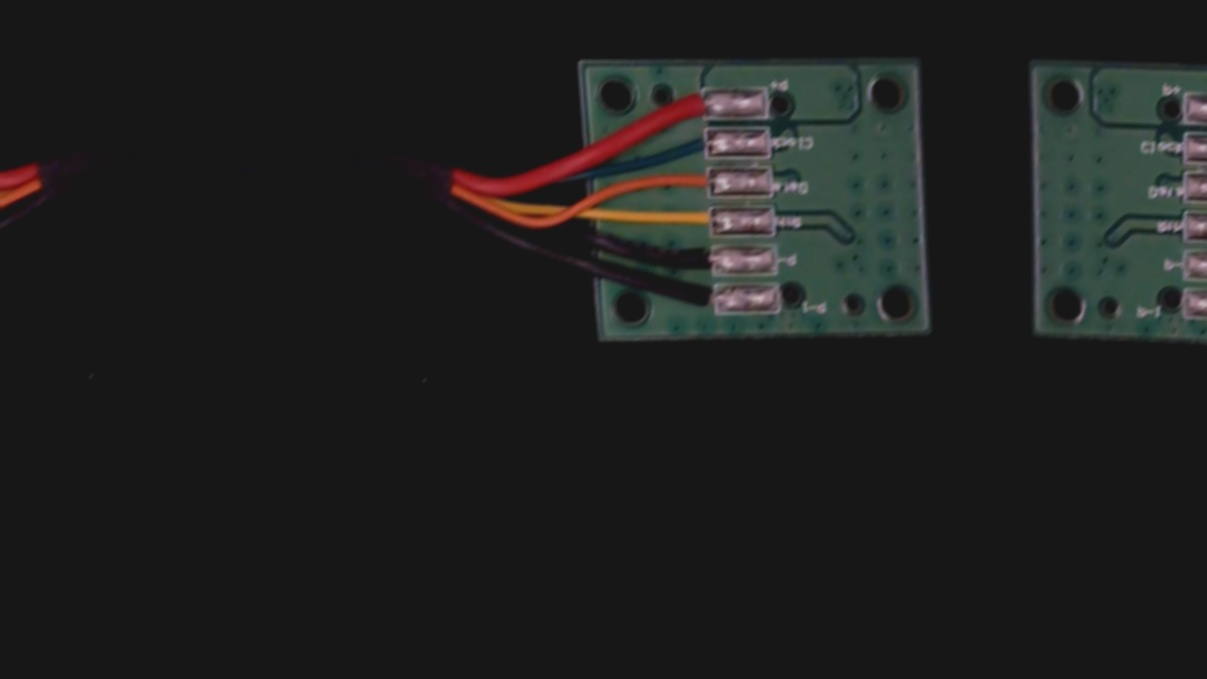Black: (663, 245, 733, 277)
Black1: (662, 285, 732, 317)
Green: (661, 130, 725, 161)
Orange: (664, 168, 729, 198)
Red: (653, 90, 722, 121)
Yellow: (662, 207, 733, 238)
